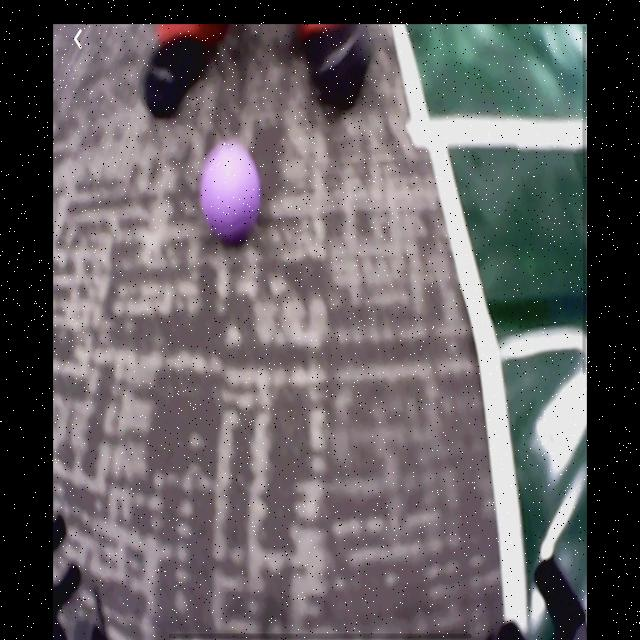ball: (201, 148, 261, 236)
